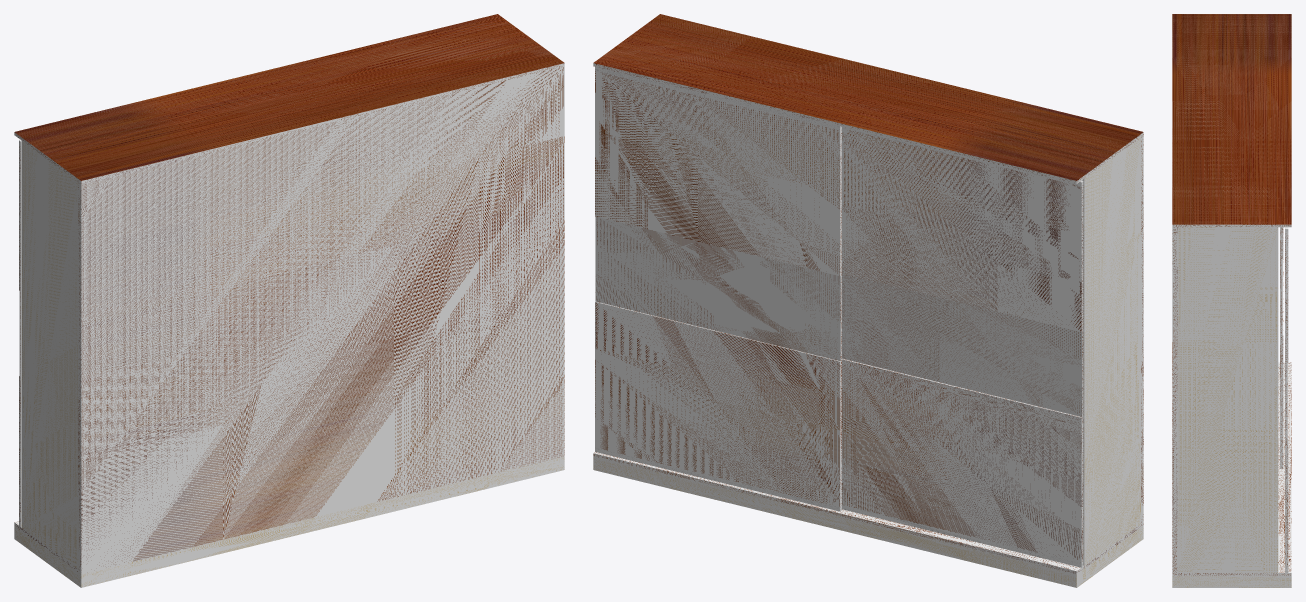
3 views of the same model, side by side, from view 1: azimuth 30°, elevation 25°; view 2: azimuth 150°, elevation 25°; view 3: azimuth 270°, elevation 25° (orthographic). The views are drawn at different scales.
Visible parts, largest first — view 1: mesh1_mesh1-geometry; view 2: mesh1_mesh1-geometry; view 3: mesh1_mesh1-geometry.
Boxes of the visible parts, x1=… form: mesh1_mesh1-geometry: x1=14, y1=14, x2=564, y2=587; mesh1_mesh1-geometry: x1=593, y1=14, x2=1143, y2=587; mesh1_mesh1-geometry: x1=1172, y1=14, x2=1291, y2=587.
Bounding box in the file's own units: 0.766 × 0.6159 × 0.1838.
